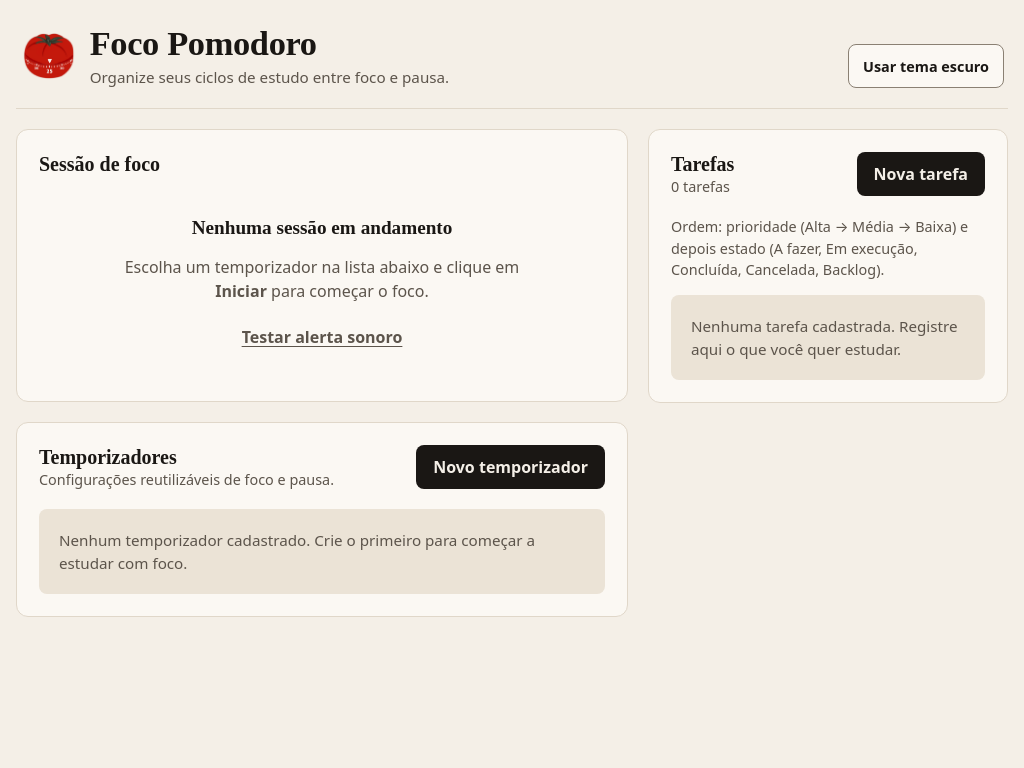
temporizadores personalizados (UC01, UC02, UC03) › rejeita dados inválidos com mensagem por campo e não persiste
The width and height of the screenshot is (1024, 768).
Click the button "Novo temporizador" at coordinates (511, 467), box [416, 445, 605, 489]
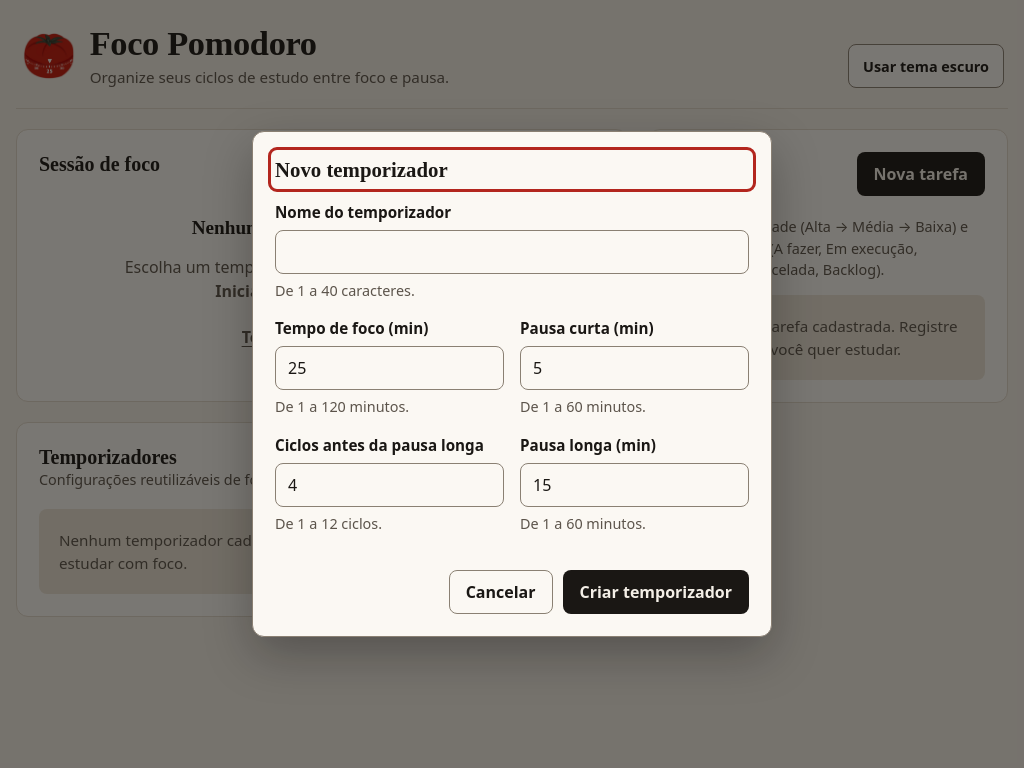
Clear the field labelled "Nome do temporizador" at coordinates (512, 252), box [275, 230, 749, 274]
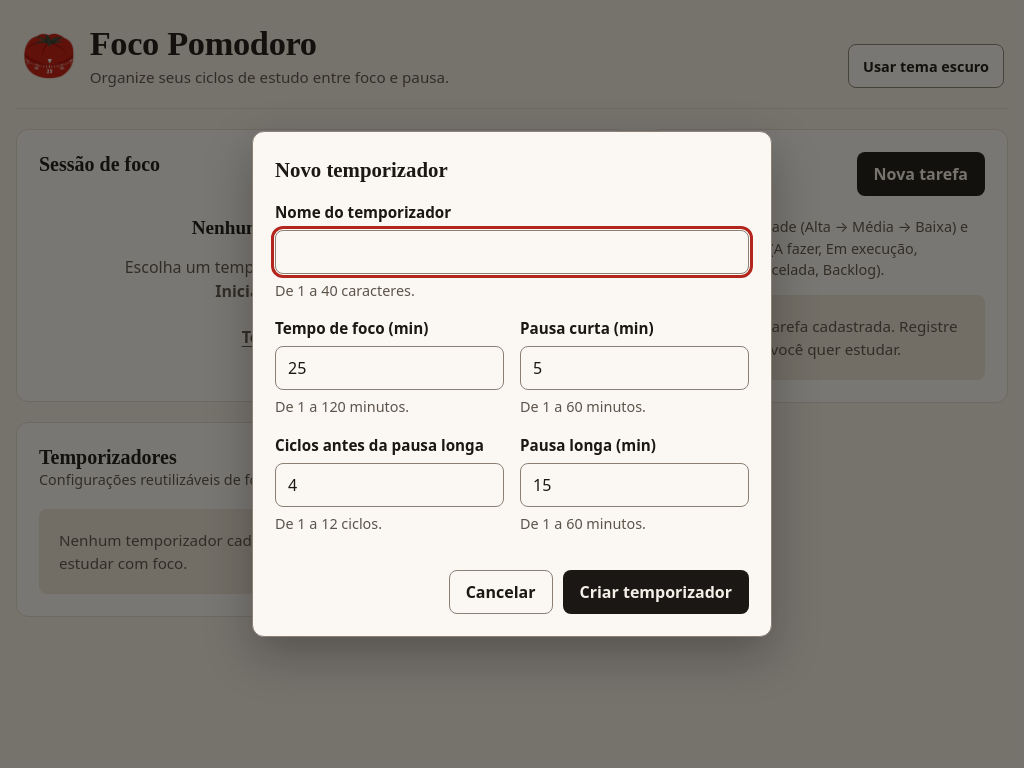
Replace the text in the number field labelled "Tempo de foco (min)" with "150" at coordinates (390, 368), box [275, 346, 504, 390]
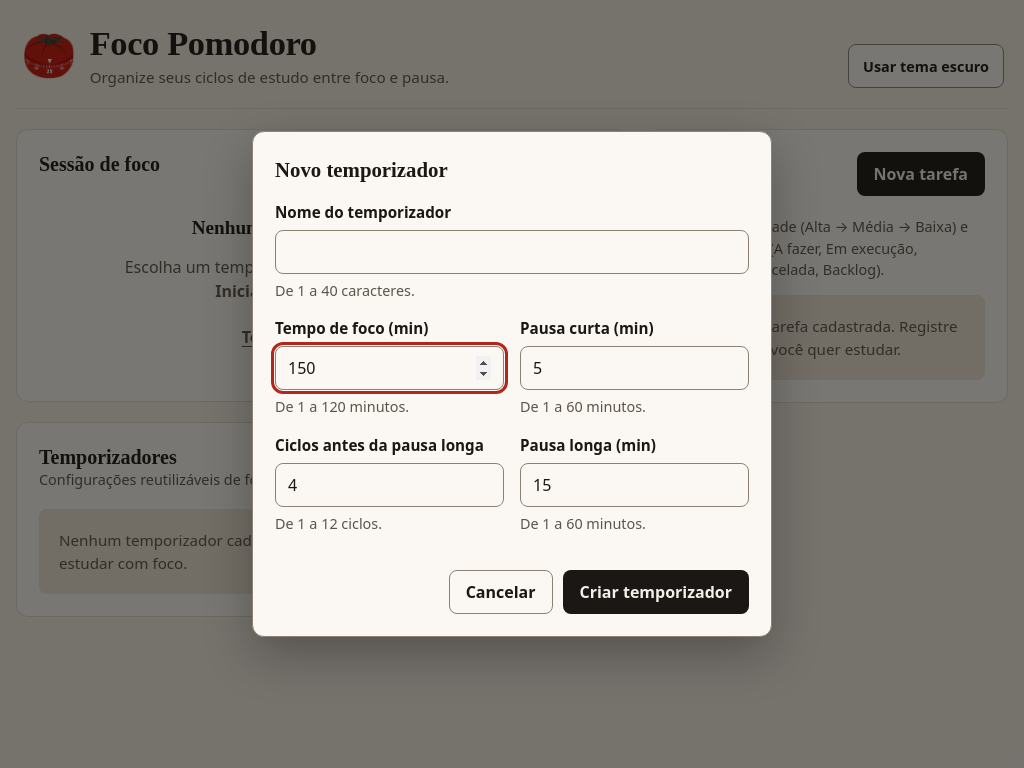
Click the button "Criar temporizador" at coordinates (656, 592), box [562, 570, 749, 614]
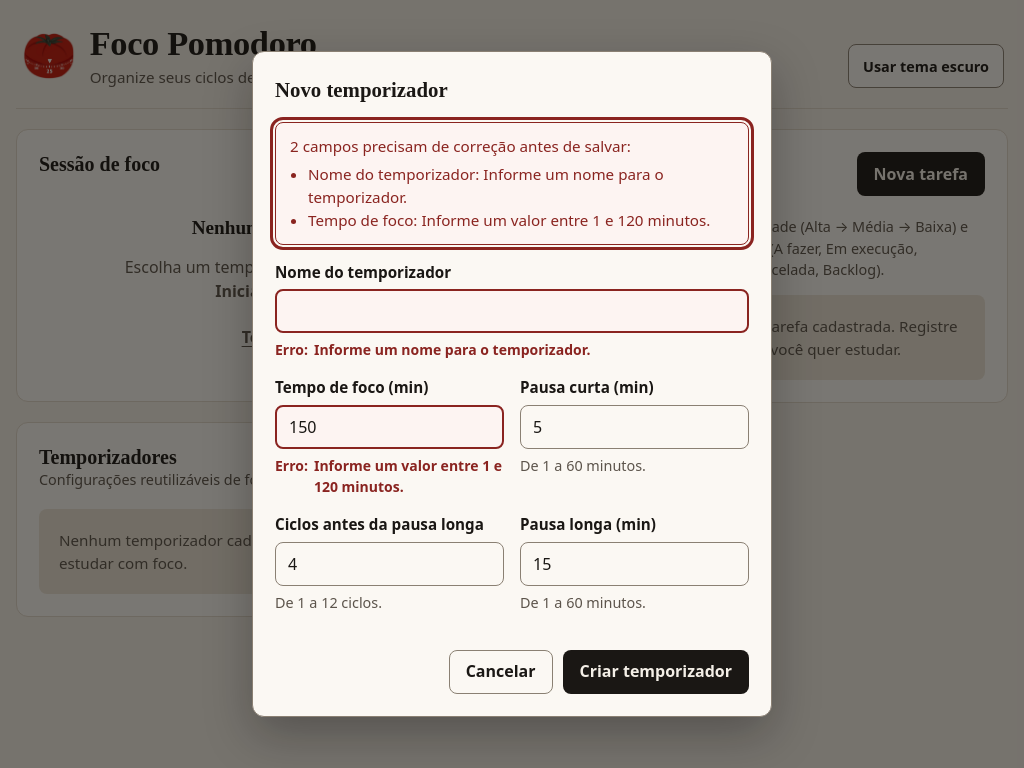
expect the text "Informe um nome para o temporizador." is shown: met, box [314, 340, 591, 360]
expect the text "Informe um valor entre 1 e 120 minutos." is shown: met, box [314, 456, 502, 496]
